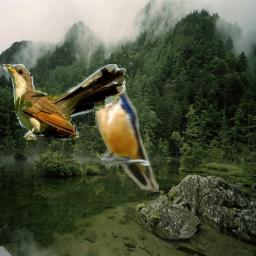Cuckoo: (3, 64, 126, 140)
Swallow: (95, 68, 159, 192)
